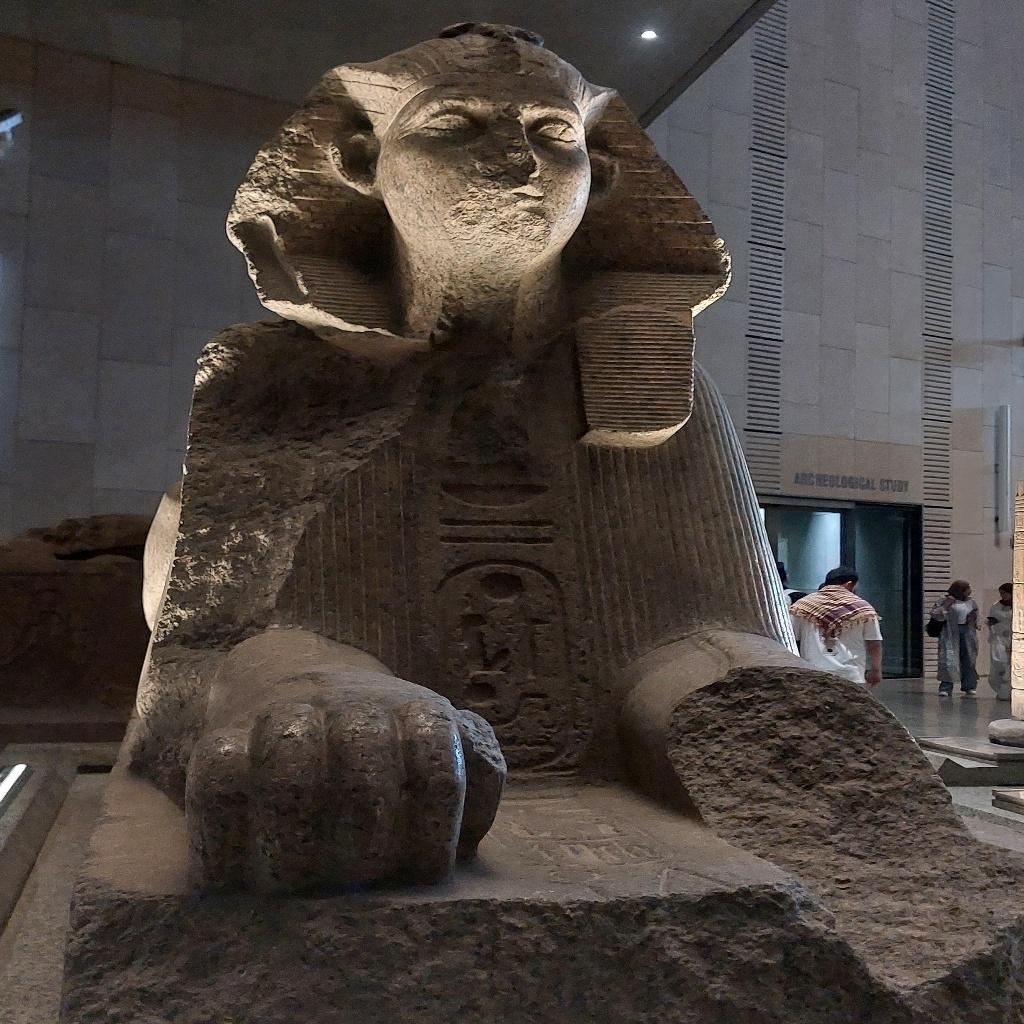Sphinx of Kings Ramesses ll - Merenptah: (124, 21, 912, 886)
